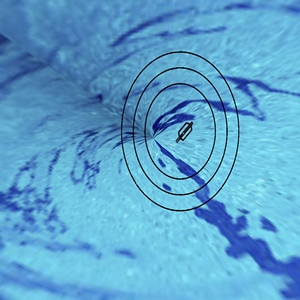circle: (116, 40, 250, 224)
submarine: (170, 116, 196, 153)
